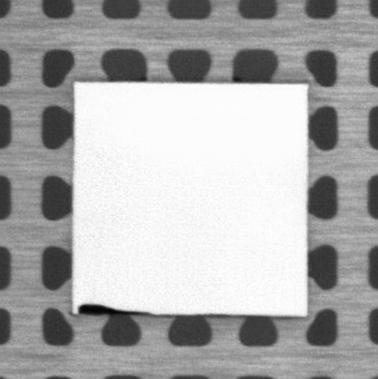DIE_BROKEN: (75, 301, 149, 316)
